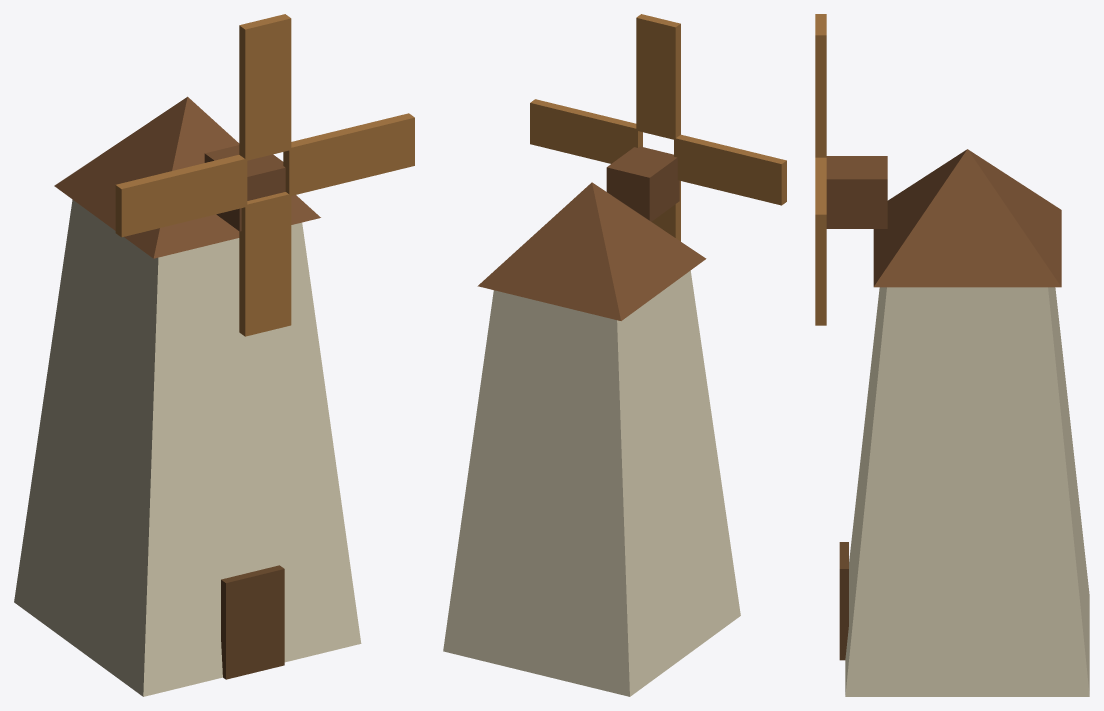
Rendered from env_r1_windmill.glb.
3 renders of one model, left to right at view 1: azimuth 30°, elevation 25°; view 2: azimuth 150°, elevation 25°; view 3: azimuth 270°, elevation 25°, orthographic. The views are drawn at different scales.
Parts seen in each view (by area): view 1: env_r1_windmill; view 2: env_r1_windmill; view 3: env_r1_windmill.
Boxes of the visible parts, x1,y1,x2,y2 form: env_r1_windmill: (14,14,414,696); env_r1_windmill: (443,14,786,696); env_r1_windmill: (815,14,1089,696).
Bounding box in the file's own units: 3.5 × 7.5 × 3.
1 material, 1 textured.
